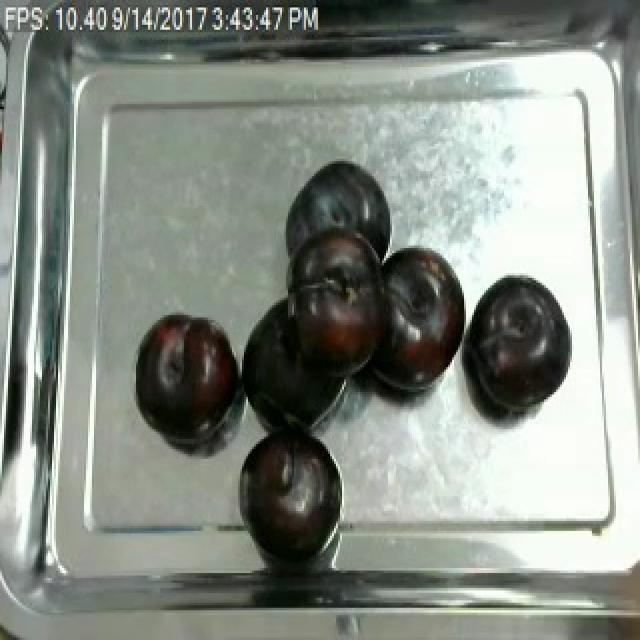Fruit: (468, 273, 574, 417), (236, 419, 342, 558), (376, 238, 468, 397), (134, 308, 242, 442)
